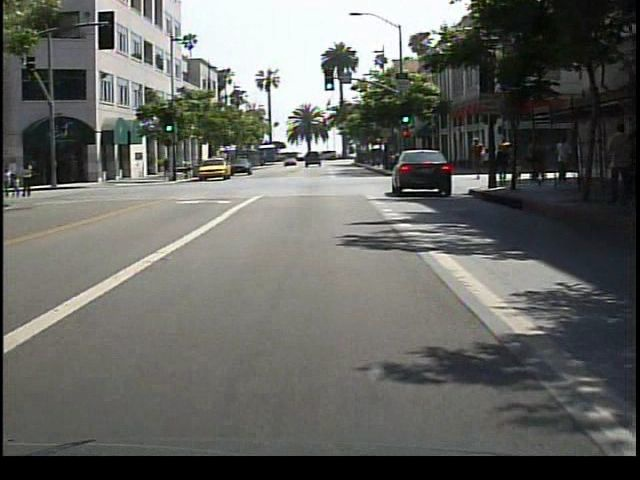person: (468, 135, 490, 185), (20, 159, 41, 200)
